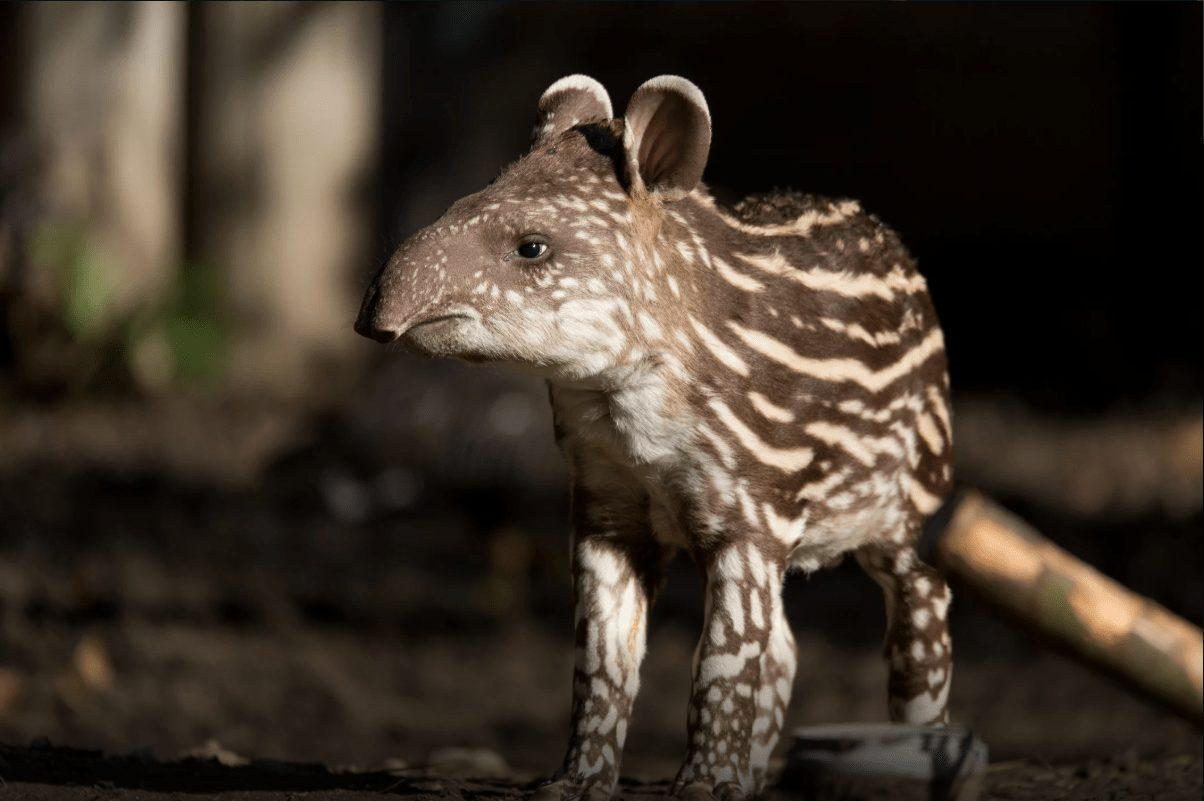Anta: (350, 57, 985, 776)
